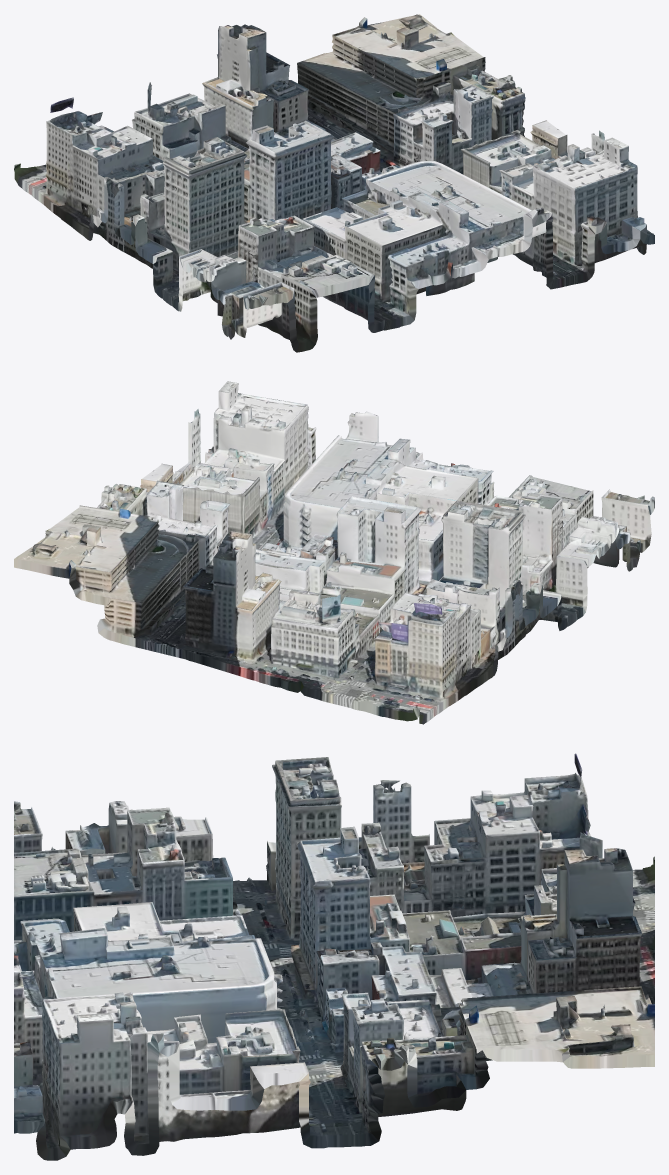
Rendered from z17-20969-50655-h0-yup-uvflip-v3-world.glb.
The picture shows the model from 3 angles, top to bottom: view 1: azimuth 30°, elevation 25°; view 2: azimuth 150°, elevation 25°; view 3: azimuth 270°, elevation 25°; orthographic projection. The views are drawn at different scales.
Size of the model in its own units: 242 by 73.92 by 243.
1 material, 1 textured.
